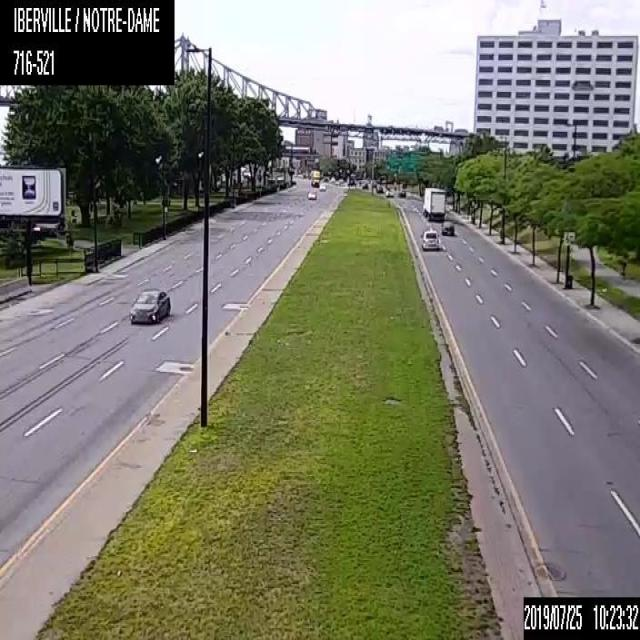vehicle: (128, 287, 171, 324), (421, 187, 445, 220), (419, 228, 439, 250), (440, 219, 454, 235), (310, 169, 319, 186), (308, 188, 316, 199), (384, 187, 393, 196), (398, 188, 406, 197), (319, 181, 326, 190), (361, 181, 368, 189), (376, 184, 382, 192)
